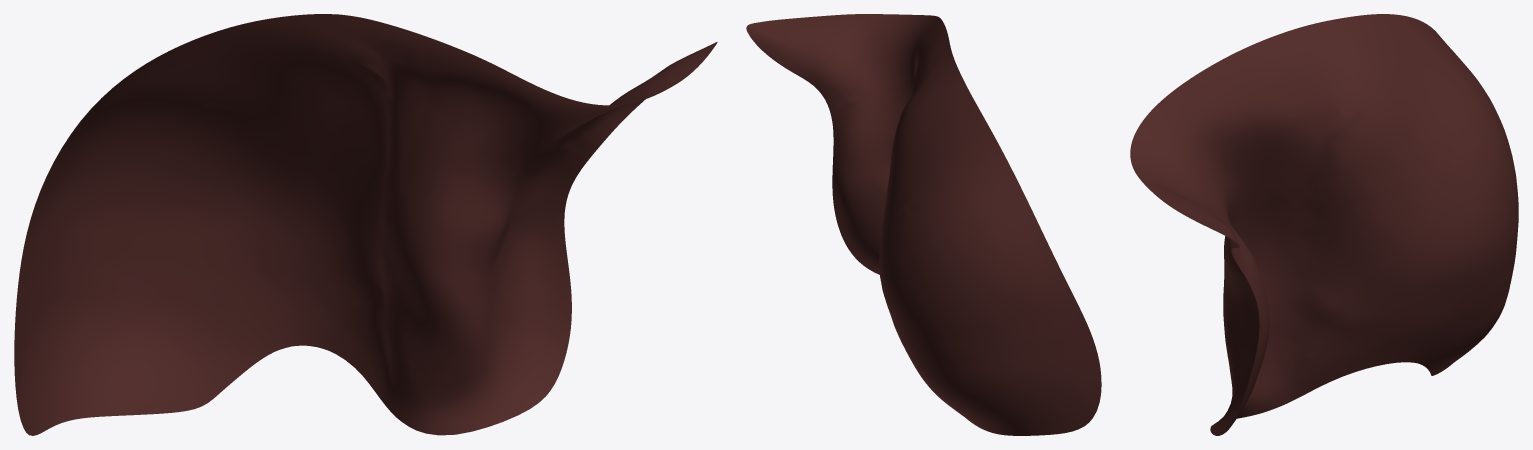
Rendered from frau2-529.glb.
3 views of the same model, side by side, from view 1: azimuth 30°, elevation 25°; view 2: azimuth 150°, elevation 25°; view 3: azimuth 270°, elevation 25° (orthographic). The views are drawn at different scales.
Visible parts, largest first — view 1: VH_F_bare_area_of_liver; view 2: VH_F_bare_area_of_liver; view 3: VH_F_bare_area_of_liver.
Part boxes in pixels (box(x1,y1,x2,y2)): VH_F_bare_area_of_liver: box(14, 14, 717, 435); VH_F_bare_area_of_liver: box(746, 14, 1101, 435); VH_F_bare_area_of_liver: box(1130, 14, 1518, 435).
Size of the model in its own units: 0.1601 by 0.1103 by 0.0999.
